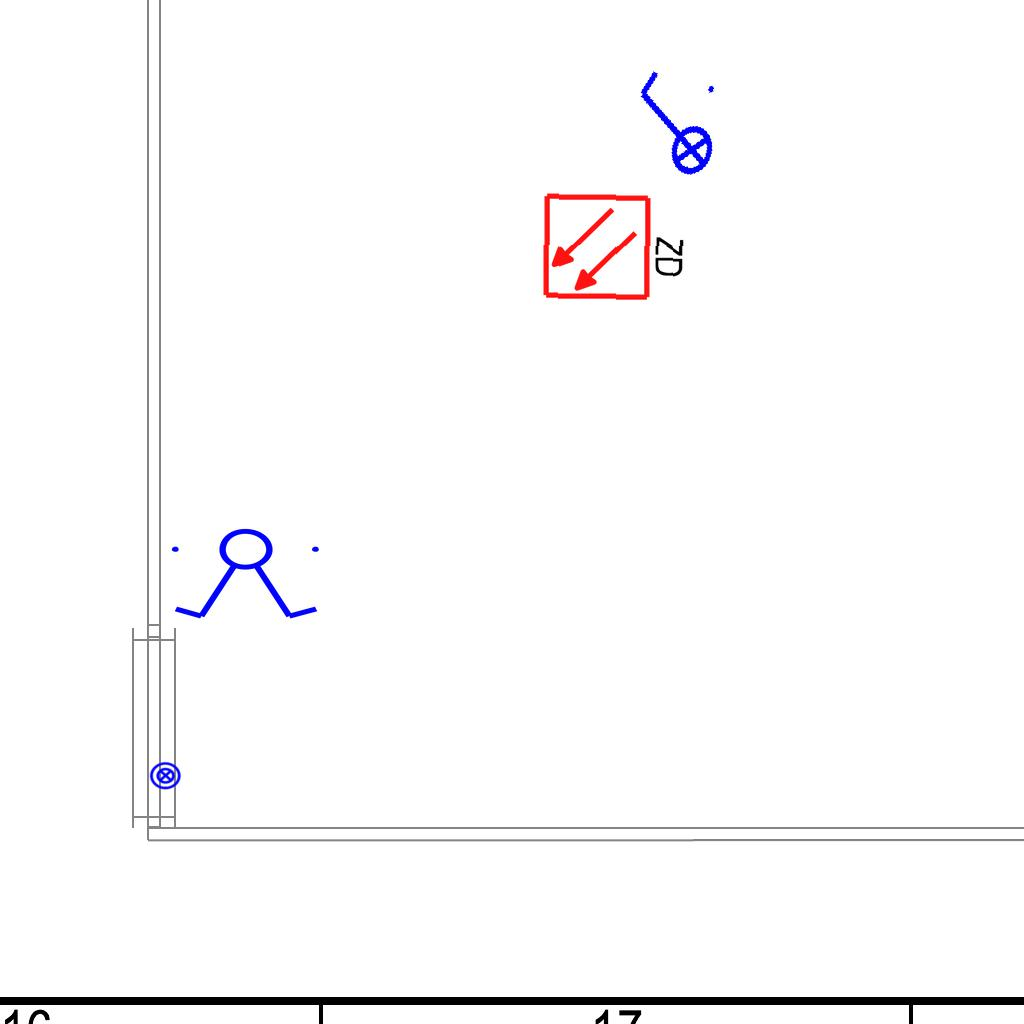Ausschalter_beleuchtet: (609, 58, 735, 194)
Serienschalter: (163, 527, 331, 623)
Taster_beleuchtet: (149, 759, 182, 792)
ZD_Melder_in_Zwischendecke_mit_Revisionsoeffnung_mind_40_x_40_cm: (540, 187, 692, 304)
